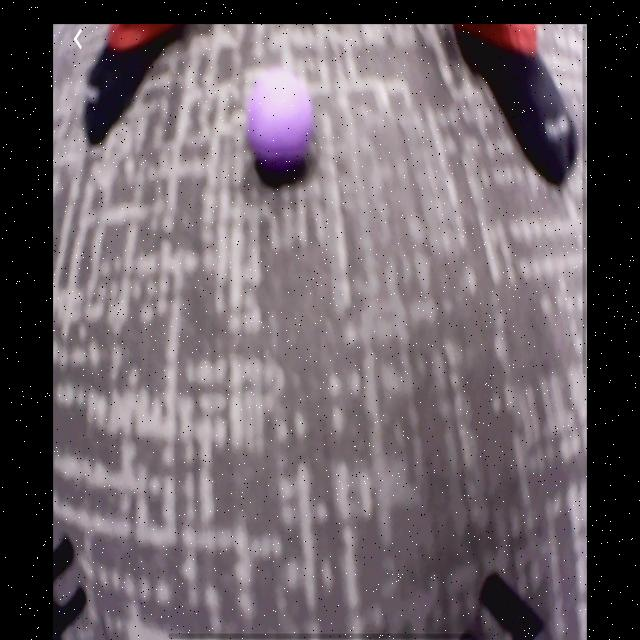ball: (248, 73, 315, 166)
